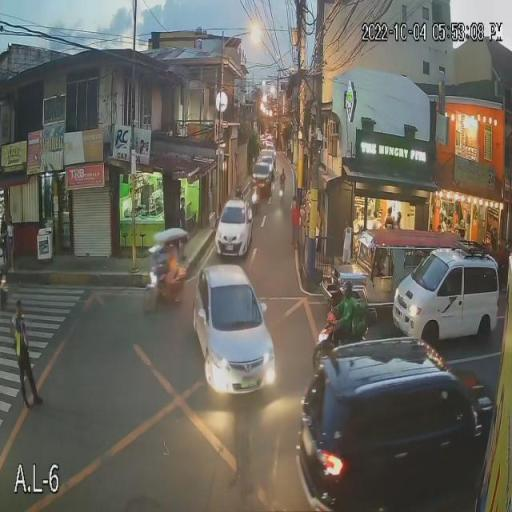helmet: (340, 276, 354, 300)
rider: (339, 279, 359, 350)
